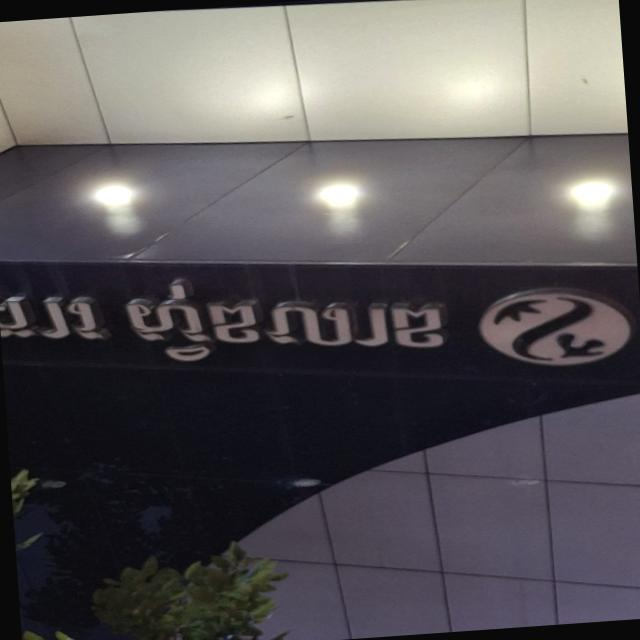Yolov11_80vkh: (72, 266, 493, 386)
